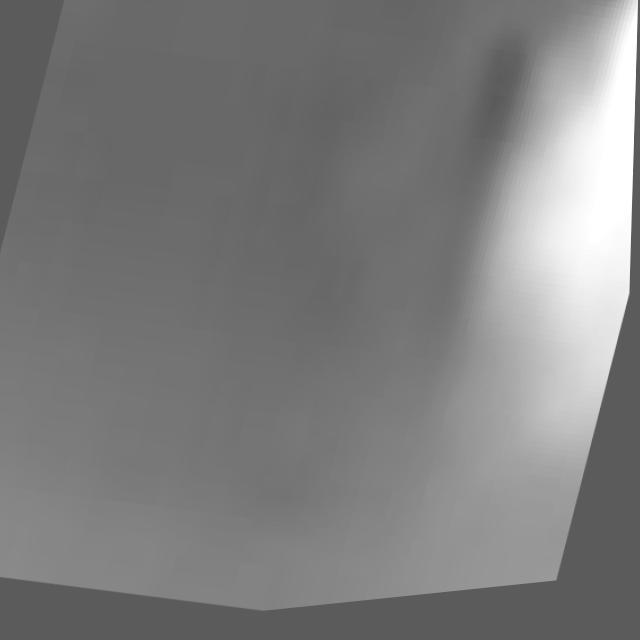person: (429, 1, 640, 464)
